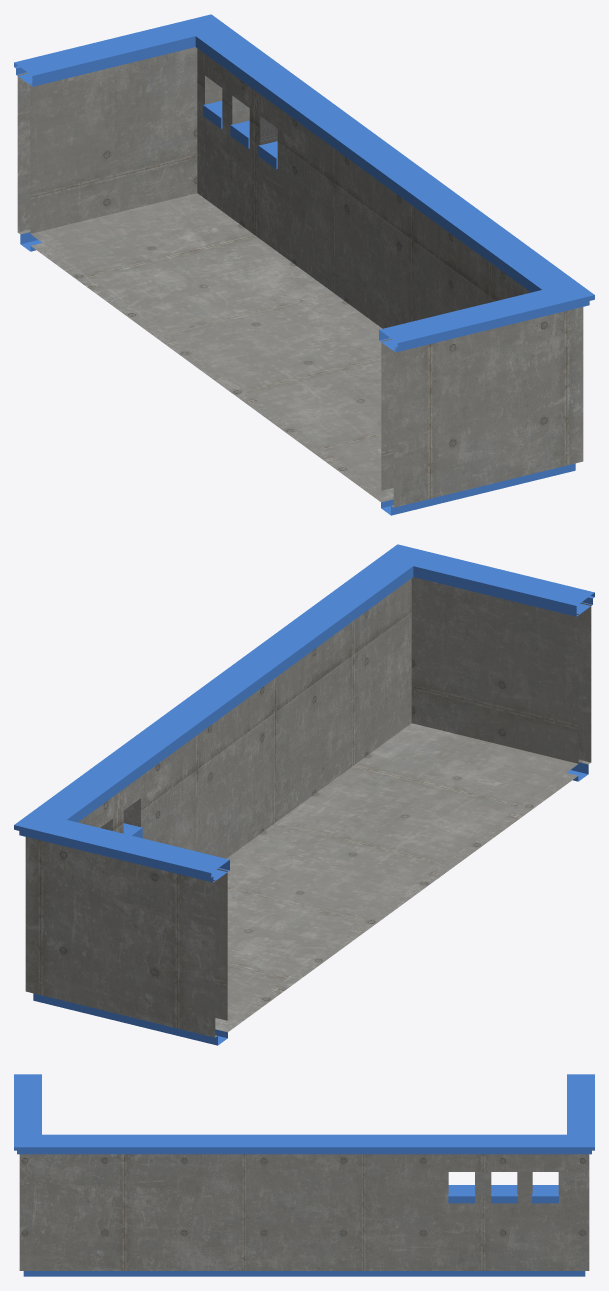
The model's file is AE_Balcony_02.fbx.
3 views of the same model, one above another, from view 1: azimuth 30°, elevation 25°; view 2: azimuth 150°, elevation 25°; view 3: azimuth 270°, elevation 25° (orthographic). The views are drawn at different scales.
Parts seen in each view (by area): view 1: AE_Balcony_02; view 2: AE_Balcony_02; view 3: AE_Balcony_02.
Part boxes in pixels (<box>): AE_Balcony_02: <box>14,14,594,515</box>; AE_Balcony_02: <box>14,544,594,1045</box>; AE_Balcony_02: <box>14,1074,594,1276</box>.
Size of the model in its own units: 145 by 125 by 489.
